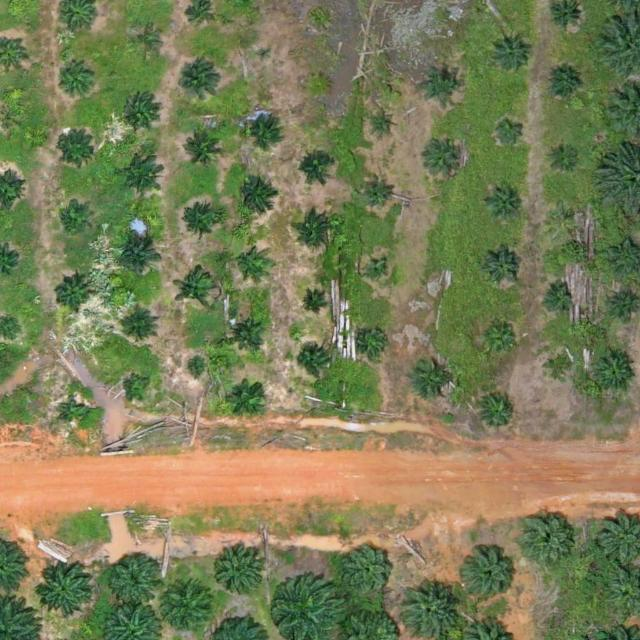Kelapa_Sawit: (518, 511, 573, 566), (105, 550, 159, 605), (463, 548, 517, 603), (35, 560, 89, 615), (161, 579, 215, 634), (215, 543, 269, 598), (340, 546, 394, 601), (177, 203, 223, 250), (117, 153, 163, 200), (175, 61, 221, 108), (180, 125, 226, 172), (409, 355, 455, 402), (172, 267, 218, 314), (116, 235, 162, 281), (590, 348, 636, 394), (428, 136, 467, 175), (421, 64, 460, 103), (243, 109, 282, 148), (229, 378, 268, 417), (121, 309, 160, 348), (228, 312, 267, 351), (53, 276, 92, 315), (483, 181, 522, 220), (483, 247, 522, 286), (478, 392, 517, 431), (478, 318, 517, 357), (297, 210, 335, 249), (296, 148, 334, 187), (57, 129, 95, 168), (236, 176, 275, 214), (122, 93, 160, 132), (59, 63, 97, 102), (490, 33, 528, 72), (544, 65, 582, 104), (234, 245, 265, 276), (58, 203, 89, 234), (297, 346, 328, 377), (360, 326, 391, 357), (548, 138, 579, 169), (547, 199, 578, 230), (541, 279, 572, 310), (543, 351, 574, 382), (495, 114, 526, 145), (361, 175, 392, 206), (124, 370, 155, 401), (58, 397, 89, 428), (130, 26, 161, 57), (372, 112, 395, 135), (365, 260, 388, 283), (299, 292, 322, 315), (184, 357, 207, 380), (307, 74, 330, 97), (257, 45, 272, 60)
